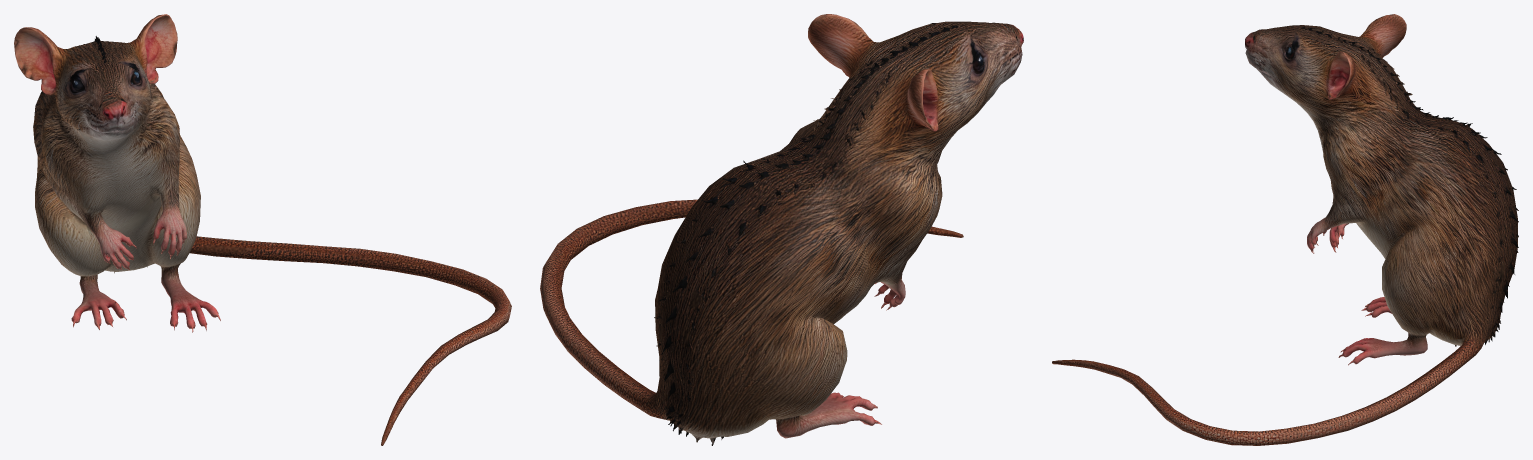
File: rat_3d_modle_free.glb
3 views of the same model, side by side, from view 1: azimuth 30°, elevation 25°; view 2: azimuth 150°, elevation 25°; view 3: azimuth 270°, elevation 25° (orthographic). The views are drawn at different scales.
Parts seen in each view (by area): view 1: Model_0; view 2: Model_0; view 3: Model_0.
Boxes of the visible parts, x1,y1,x2,y2 form: Model_0: [14, 14, 511, 445]; Model_0: [540, 14, 1023, 445]; Model_0: [1052, 14, 1518, 445].
Size of the model in its own units: 0.8591 by 0.6732 by 1.
Materials: 1 (1 with a texture image).
